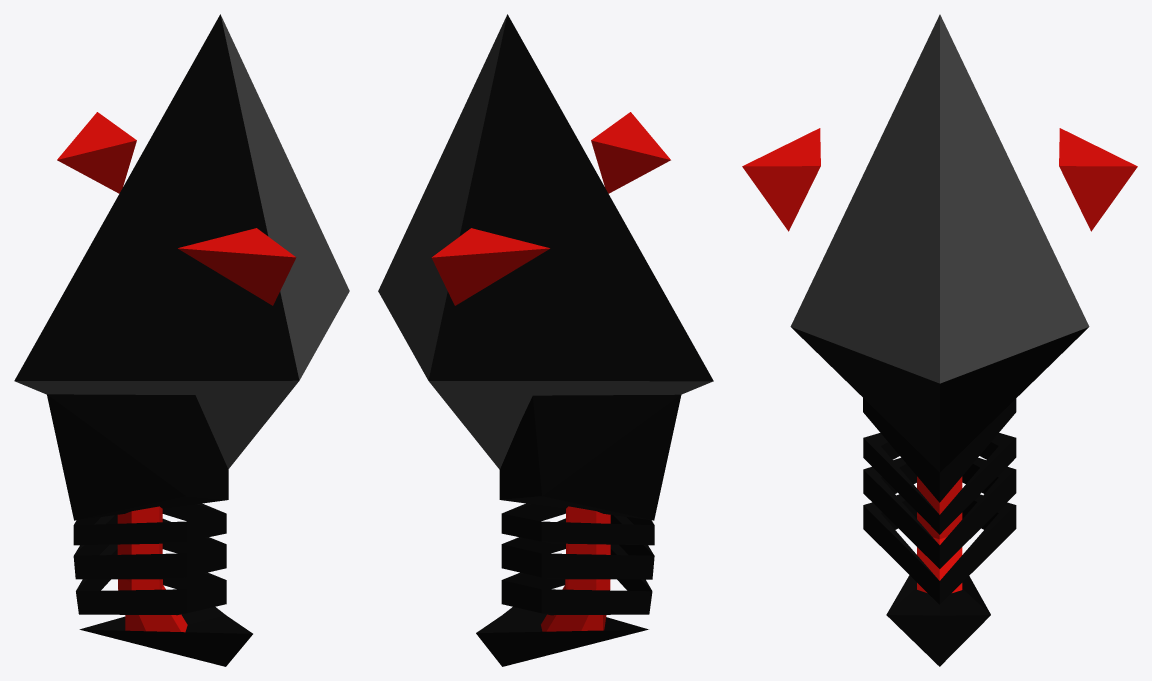
File: cypher.fbx
3 renders of one model, left to right at view 1: azimuth 30°, elevation 25°; view 2: azimuth 150°, elevation 25°; view 3: azimuth 270°, elevation 25°, orthographic.
Parts seen in each view (by area): view 1: cuerpo, costilla 2, costilla 3, aguijon, costilla 1, nervio; view 2: cuerpo, costilla 2, costilla 3, aguijon, costilla 1, nervio; view 3: cuerpo, costilla 2, aguijon, costilla 3, costilla 1, nervio.
Boxes of the visible parts, bbox=[...] form: cuerpo: bbox=[14, 14, 349, 520]; costilla 2: bbox=[73, 515, 226, 579]; costilla 3: bbox=[76, 544, 226, 615]; aguijon: bbox=[79, 607, 252, 666]; costilla 1: bbox=[73, 503, 226, 545]; nervio: bbox=[117, 506, 187, 632]; cuerpo: bbox=[378, 14, 713, 520]; costilla 2: bbox=[501, 515, 654, 579]; costilla 3: bbox=[501, 544, 652, 615]; aguijon: bbox=[476, 607, 648, 666]; costilla 1: bbox=[501, 503, 654, 545]; nervio: bbox=[541, 506, 610, 631]; cuerpo: bbox=[742, 14, 1137, 502]; costilla 2: bbox=[863, 457, 1016, 568]; aguijon: bbox=[886, 575, 990, 666]; costilla 3: bbox=[863, 494, 1016, 604]; costilla 1: bbox=[863, 433, 1016, 534]; nervio: bbox=[917, 476, 962, 592].
Bounding box in the file's own units: 258 × 480 × 265.
